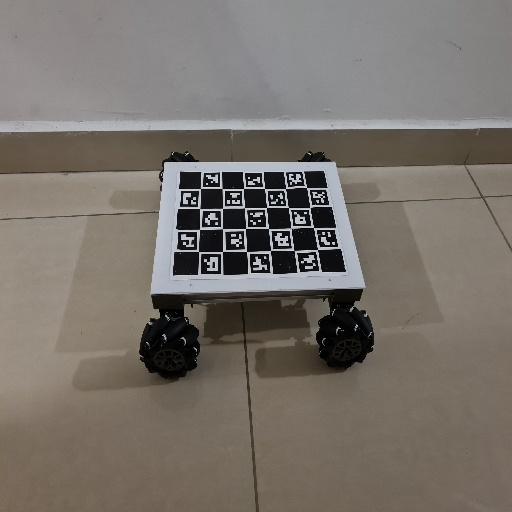Omniwheel: (136, 148, 377, 384)
